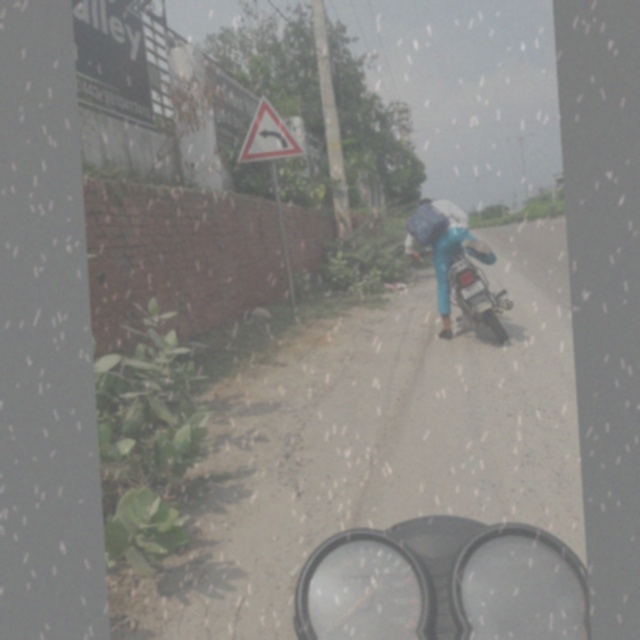Left_Hand_Curve: (229, 92, 309, 169)
